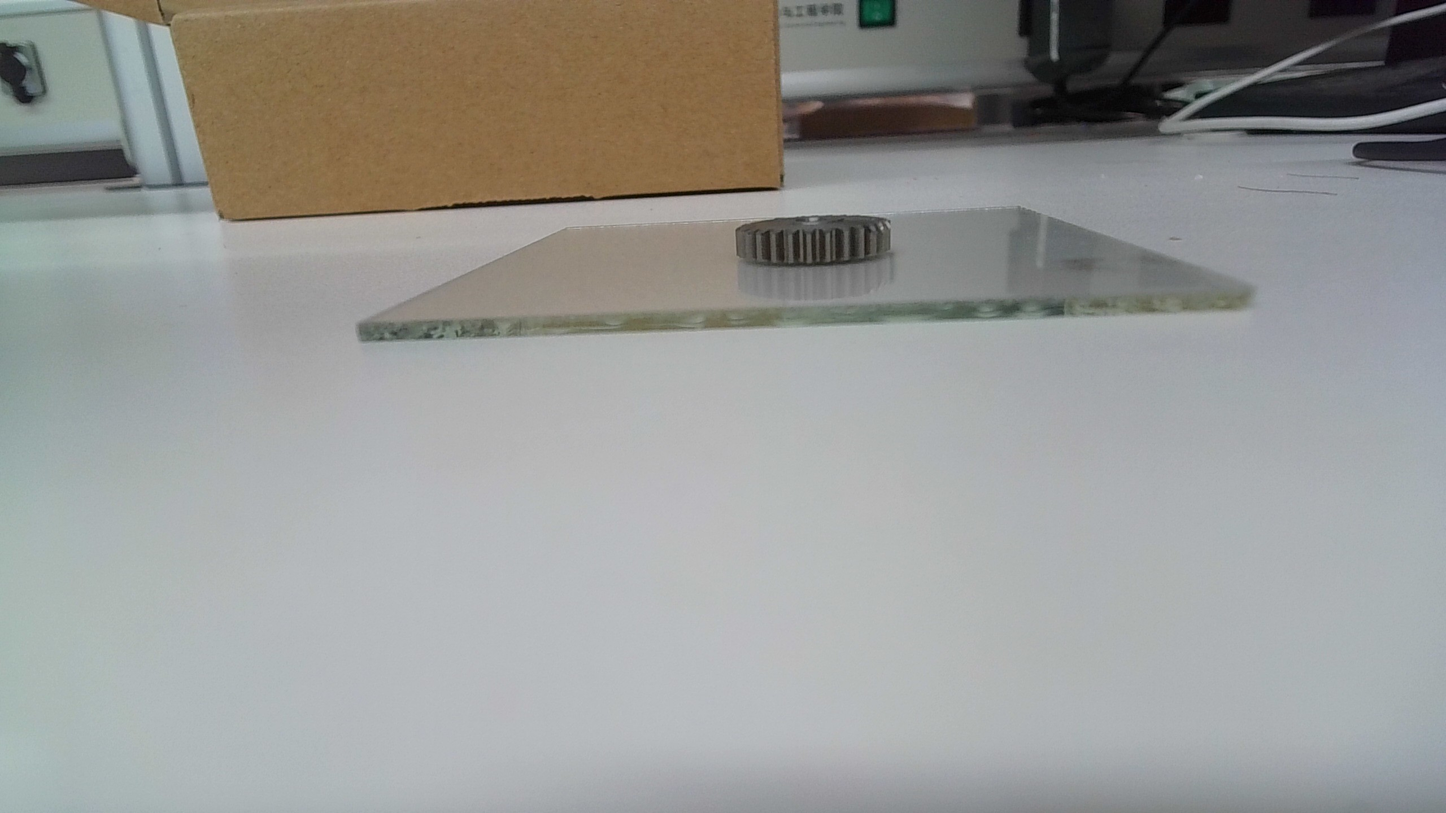gear: (734, 215, 895, 269)
